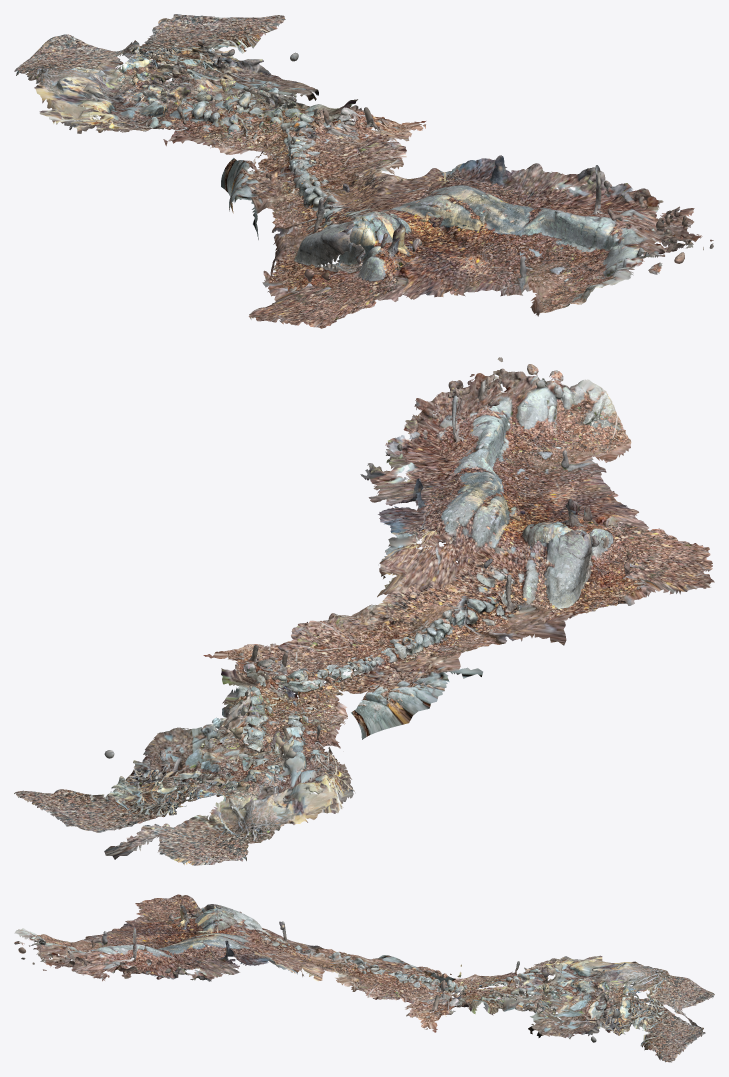
Rendered from abound_20261119-1506.glb.
3 renders of one model, top to bottom at view 1: azimuth 30°, elevation 25°; view 2: azimuth 150°, elevation 25°; view 3: azimuth 270°, elevation 25°, orthographic. The views are drawn at different scales.
Visible parts, largest first — view 1: Scene; view 2: Scene; view 3: Scene.
Part boxes in pixels (bbox=[...]): Scene: bbox=[14, 14, 713, 328]; Scene: bbox=[14, 357, 714, 865]; Scene: bbox=[14, 894, 714, 1062].
Size of the model in its own units: 13.86 by 6.31 by 31.61.
3 materials, 3 textured.
